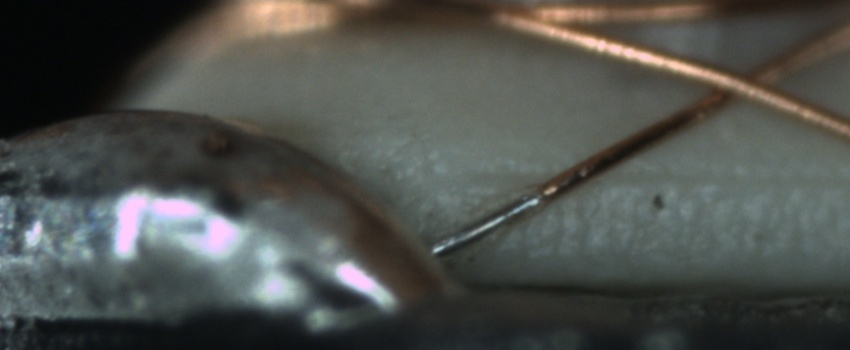CL: (674, 52, 806, 116)
DL: (475, 156, 850, 220)
TS: (430, 189, 542, 255)
